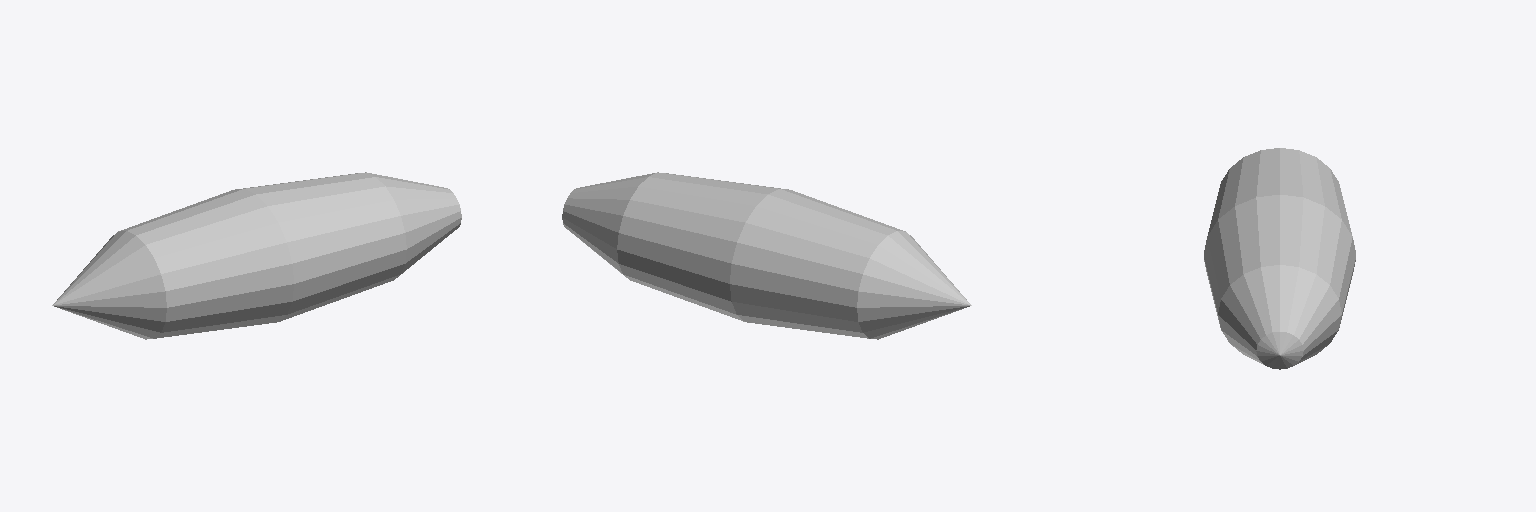
File: bullet.obj
3 views of the same model, side by side, from view 1: azimuth 30°, elevation 25°; view 2: azimuth 150°, elevation 25°; view 3: azimuth 270°, elevation 25° (orthographic).
Visible parts, largest first — view 1: bullet:pSphere1; view 2: bullet:pSphere1; view 3: bullet:pSphere1.
Part boxes in pixels (x1,y1,x2,y2): bullet:pSphere1: (52, 172, 461, 339); bullet:pSphere1: (562, 172, 971, 339); bullet:pSphere1: (1204, 148, 1355, 369).
Size of the model in its own units: 5.39 by 1.55 by 1.75.